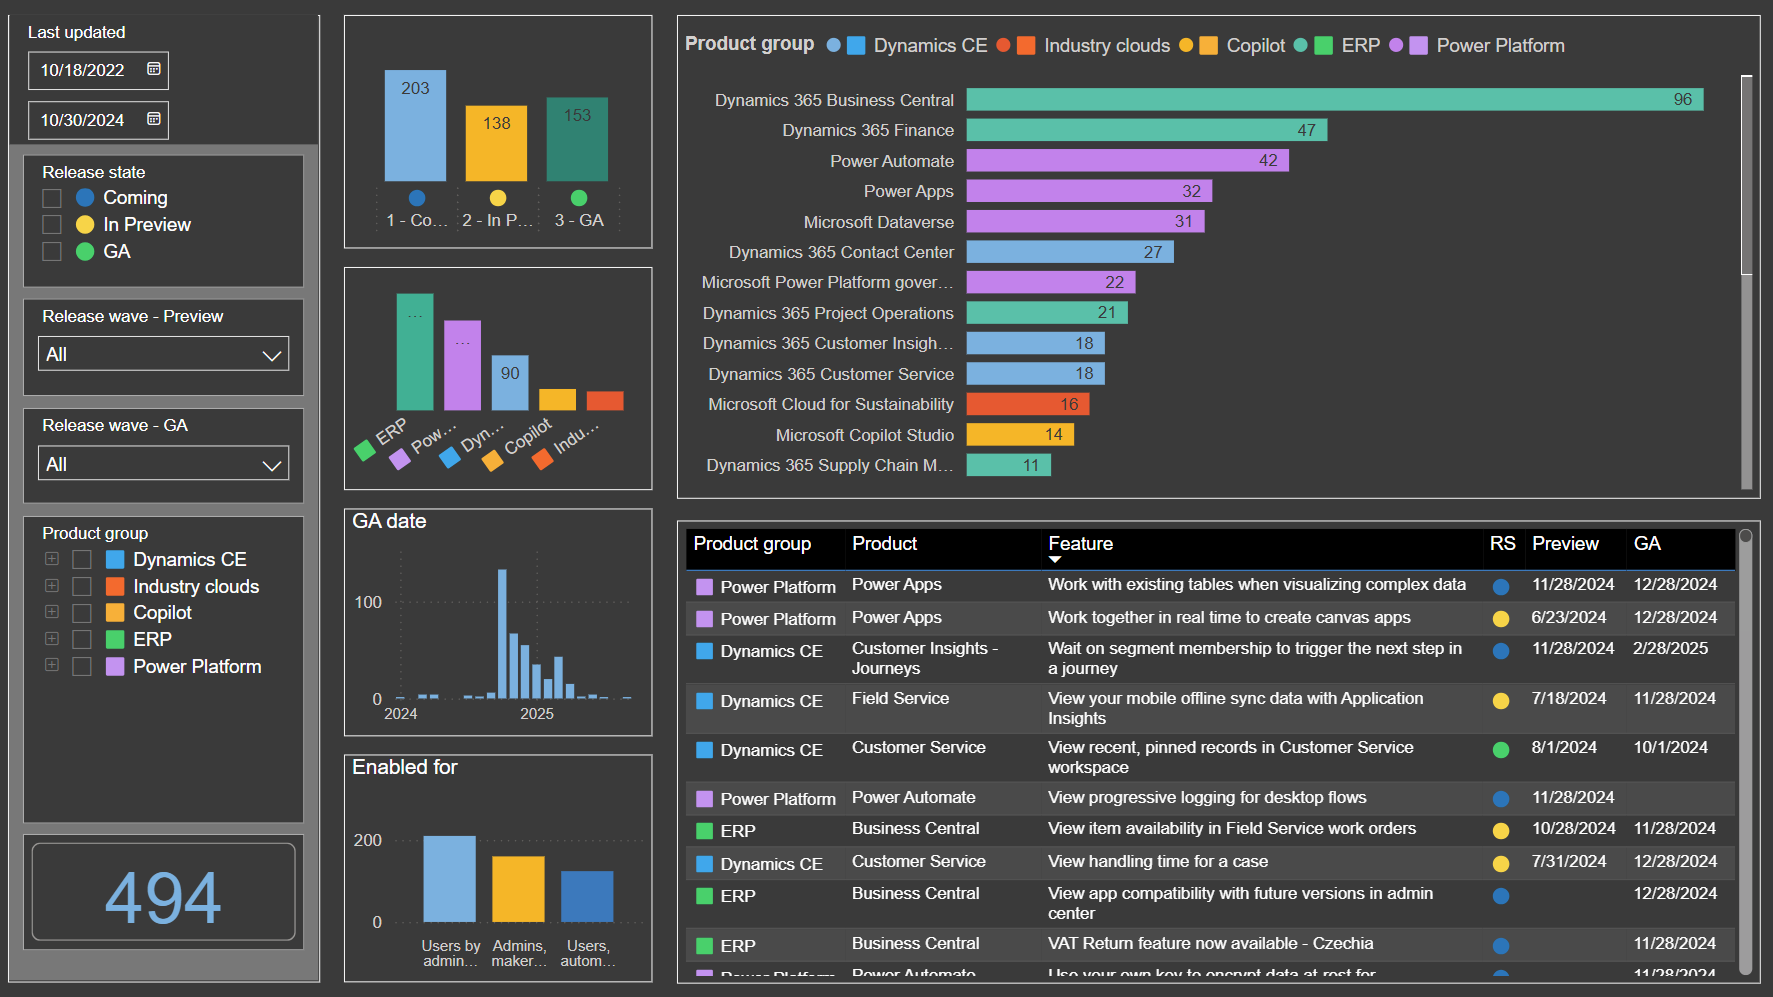

Layout of this report page (visuals, bound fields, positions):
{"tool":"powerbi","page":{"name":"Features Visualization","canvas":[1280,720],"ordinal":1},"visuals":[{"type":"shape","box":[6.4,14.6,222,687.8],"z":0},{"type":"slicer","fields":{"Values":["ReleasePlans.Last updated"]},"box":[7.3,15.5,219.2,91.9],"z":1000},{"type":"slicer","fields":{"Values":["ReleasePlans.Product group","ReleasePlans.Product name - Short"]},"box":[17.3,370.9,200.1,218.3],"z":2000},{"type":"slicer","fields":{"Values":["ReleasePlans.Release status Icon and Text"]},"box":[17.3,113.7,200.1,94.6],"z":3000},{"type":"slicer","title":"RW GA","fields":{"Values":["ReleasePlans.GA Release Wave"]},"box":[17.3,294.3,200,68.2],"z":4000},{"type":"slicer","title":"RW Preview","fields":{"Values":["ReleasePlans.Public Preview Release Wave"]},"box":[17.3,216.7,200,69.1],"z":5000},{"type":"cardVisual","fields":{"Data":["CountNonNull(ReleasePlans.Release Plan ID)"]},"box":[17.3,597.7,200,82.8],"z":6000},{"type":"columnChart","fields":{"Category":["ReleasePlans.Release status","ReleasePlans.Release status Icon"],"Y":["CountNonNull(ReleasePlans.Release Plan ID)"]},"box":[245.2,14.5,219.2,166.2],"z":7000},{"type":"barChart","fields":{"Category":["ReleasePlans.Product name"],"Y":["CountNonNull(ReleasePlans.Release Plan ID)"],"Series":["ReleasePlans.Product group"]},"box":[482.1,14.5,770.9,343.9],"z":8000},{"type":"columnChart","fields":{"Category":["ReleasePlans.Product group"],"Y":["CountNonNull(ReleasePlans.Release Plan ID)"],"Series":["ReleasePlans.Product group"]},"box":[245.2,193.9,219.2,159],"z":9000},{"type":"columnChart","title":"GA date","fields":{"Category":["ReleasePlans.GA date - YearMonth"],"Y":["CountNonNull(ReleasePlans.Release Plan ID)"]},"box":[245.2,366.1,219.2,162.1],"z":10000},{"type":"tableEx","fields":{"Values":["ReleasePlans.Product group","ReleasePlans.Product name - Short","ReleasePlans.Feature name","ReleasePlans.Release status Icon","ReleasePlans.Public preview date","ReleasePlans.GA date"]},"box":[482.1,374,770.9,329.4],"z":11000},{"type":"columnChart","title":"Enabled for","fields":{"Category":["ReleasePlans.Enabled for"],"Y":["CountNonNull(ReleasePlans.Release Plan ID)"],"Series":["ReleasePlans.Enabled for"]},"box":[245.2,541.3,219.2,162.1],"z":12000}]}

Visuals, with their boxes in screenshot pixels (x1, y1, x2, y2), scaled from the page's 1280x720 canvas onto the 1773x997 screenshot:
shape: (9,20,316,973)
slicer - ReleasePlans.Last updated: (10,21,314,149)
slicer - ReleasePlans.Product group x ReleasePlans.Product name - Short: (24,514,301,816)
slicer - ReleasePlans.Release status Icon and Text: (24,157,301,288)
"RW GA" slicer: (24,408,301,502)
"RW Preview" slicer: (24,300,301,396)
cardVisual - CountNonNull(ReleasePlans.Release Plan ID): (24,828,301,942)
columnChart - ReleasePlans.Release status x ReleasePlans.Release status Icon: (340,20,643,250)
barChart - ReleasePlans.Product name x CountNonNull(ReleasePlans.Release Plan ID): (668,20,1736,496)
columnChart - ReleasePlans.Product group x CountNonNull(ReleasePlans.Release Plan ID): (340,268,643,489)
"GA date" columnChart: (340,507,643,731)
tableEx - ReleasePlans.Product group x ReleasePlans.Product name - Short: (668,518,1736,974)
"Enabled for" columnChart: (340,750,643,974)
